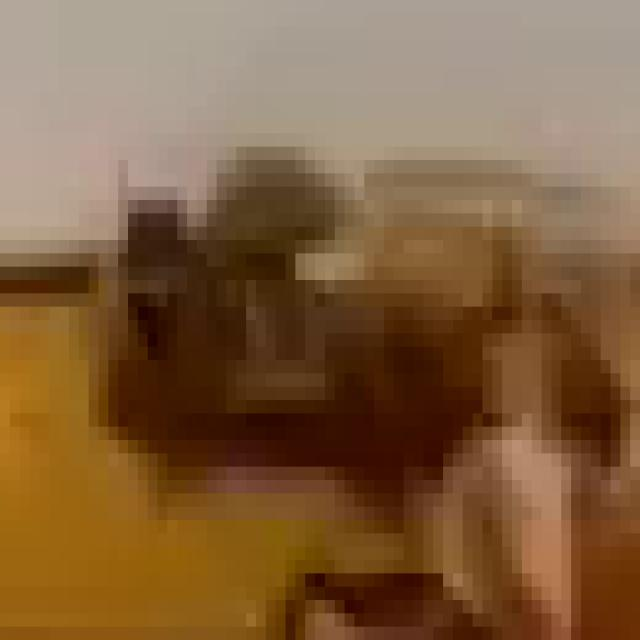honeybee: (78, 184, 618, 534)
